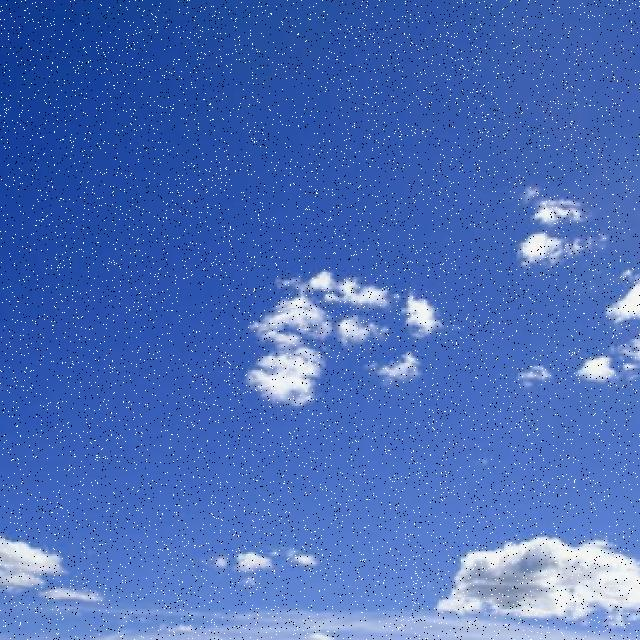Cs: (194, 171, 640, 630)
